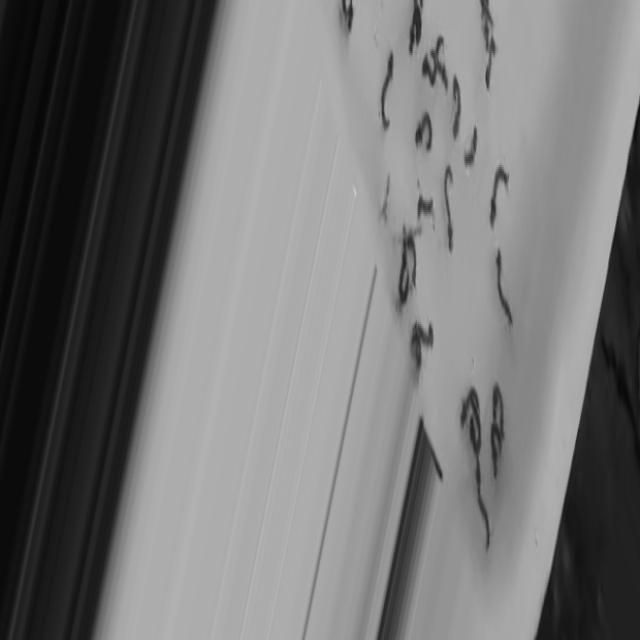larvas: (455, 377, 479, 435), (496, 254, 514, 321), (474, 461, 488, 543), (489, 168, 508, 222), (444, 167, 456, 250), (381, 58, 394, 124), (415, 112, 433, 154), (420, 51, 439, 90), (398, 244, 410, 305), (435, 37, 450, 80), (493, 377, 506, 426), (451, 77, 461, 140), (490, 424, 502, 476), (408, 11, 422, 51), (470, 407, 482, 450), (409, 231, 418, 285), (413, 324, 435, 346), (408, 339, 422, 371), (480, 0, 495, 29), (340, 0, 354, 29), (466, 130, 478, 163), (485, 41, 494, 81), (418, 199, 434, 216)
